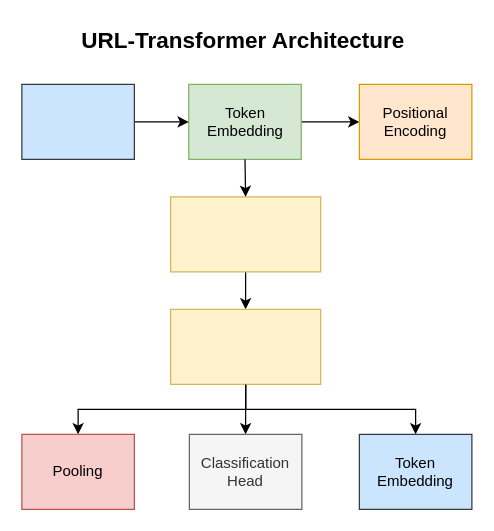
Some shapes in this 494 by 531 pixel diagram are drawn without their labels. The shapes that lost their labels are listed below. From the top down, each one's centre as x and y in pixels, then its label:
the point at 77,121: Input(URL)
the point at 245,234: Transformer Block1
the point at 245,346: Transformer Block2
